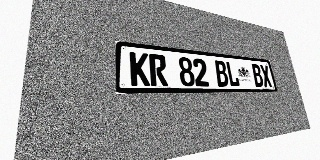2: (192, 58, 209, 86)
8: (178, 56, 195, 86)
B: (214, 60, 229, 87), (251, 64, 264, 87)
K: (129, 52, 150, 86)
L: (225, 61, 240, 87)
R: (149, 54, 168, 86)
X: (259, 65, 272, 87)
